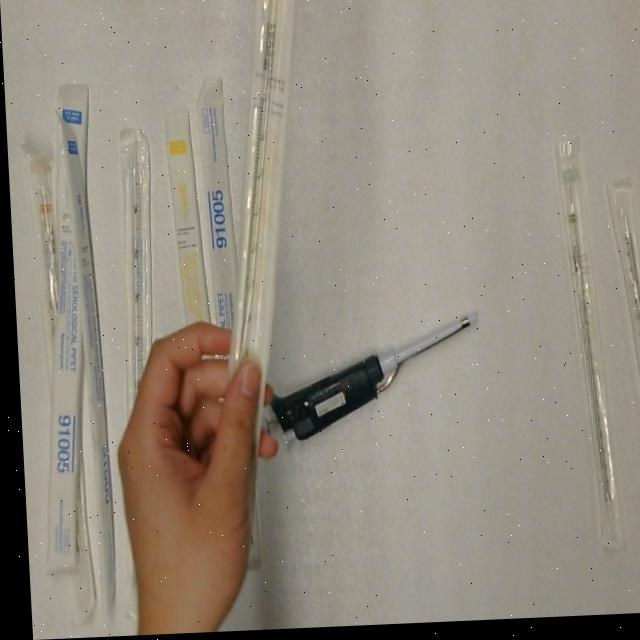Serelogical Pipet 1 mL - Sealed: (198, 0, 317, 461), (157, 107, 208, 331)
Serelogical Pipet 10 mL - Sealed: (22, 139, 71, 378)
Serelogical Pipet 2 mL - Sealed: (546, 138, 624, 563)
Serelogical Pipet 5 mL - Sealed: (17, 77, 111, 577), (54, 106, 117, 607), (191, 77, 245, 354)
Single Channel Pipettor: (244, 312, 488, 450)
